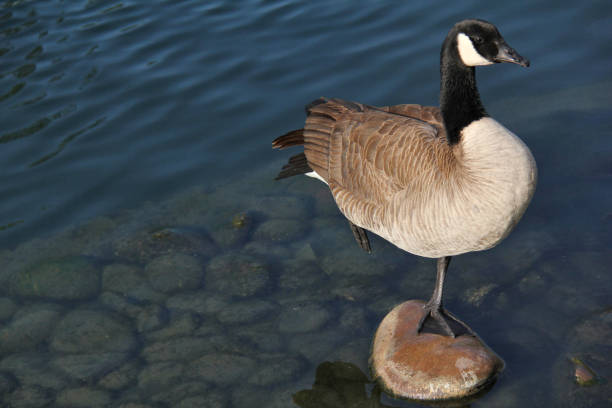goose: (265, 14, 543, 344)
